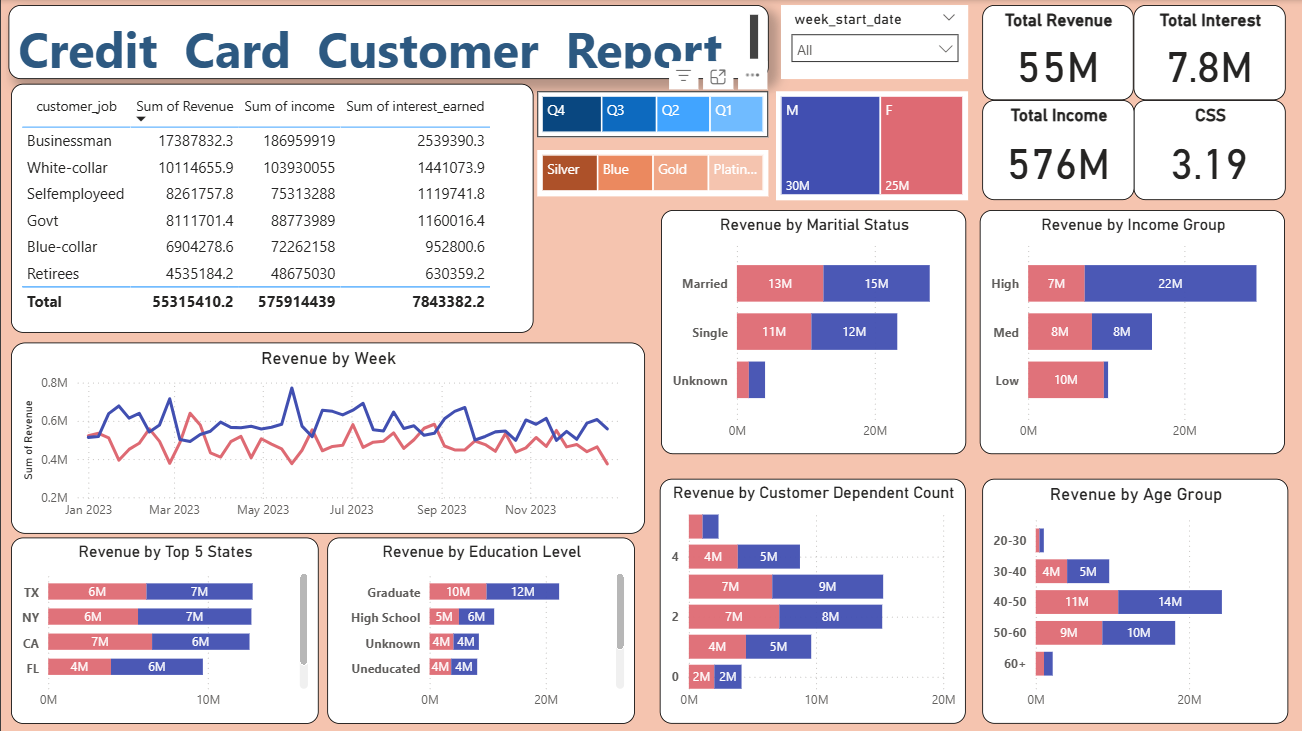

The page's visual inventory and layout, read from the dashboard file:
{"tool":"powerbi","page":{"name":"Customer Report","canvas":[1280,720],"ordinal":2},"visuals":[{"type":"textbox","box":[7.4,4.9,747,72.5],"z":0},{"type":"barChart","title":"Revenue by Income Group","fields":{"Y":["Sum(public cc_detail.Revenue)"],"Category":["public cust_detail.IncomeGroup"],"Series":["public cust_detail.gender"]},"box":[962.4,206.5,300.3,240.2],"z":1000},{"type":"tableEx","title":"Card Summary","fields":{"Values":["public cust_detail.customer_job","Sum(public cc_detail.Revenue)","Sum(public cust_detail.income)","Sum(public cc_detail.interest_earned)"]},"box":[9.8,82.3,513.6,244.5],"z":2000},{"type":"card","title":"Total Interest","fields":{"Values":["Sum(public cc_detail.interest_earned)"]},"box":[1113.2,4.9,149.9,93.4],"z":3000},{"type":"card","title":"CSS","fields":{"Values":["Avg(public cust_detail.cust_satisfaction_score)"]},"box":[1113.2,98.3,149.9,98.3],"z":4000},{"type":"slicer","fields":{"Values":["public cc_detail.week_start_date"]},"box":[766.7,4.9,184.3,72.5],"z":5000},{"type":"treemap","fields":{"Group":["public cc_detail.qtr"],"Values":["Avg(public cc_detail.client_num)"]},"box":[527.1,89.7,227.3,45.5],"z":6000},{"type":"treemap","fields":{"Values":["Avg(public cc_detail.client_num)"],"Group":["public cc_detail.card_category"]},"box":[527.1,147.4,227.3,45.5],"z":7000},{"type":"card","title":"Total Revenue","fields":{"Values":["Sum(public cc_detail.Revenue)"]},"box":[964.5,4.9,148.7,93.4],"z":10000},{"type":"card","title":"Total Income","fields":{"Values":["Sum(public cust_detail.income)"]},"box":[963.9,98.1,149.4,98.1],"z":11000},{"type":"lineChart","title":"Revenue by Week","fields":{"Y":["Sum(public cc_detail.Revenue)"],"Series":["public cust_detail.gender"],"Category":["public cc_detail.week_start_date.Variation.Date Hierarchy.Year","public cc_detail.week_start_date.Variation.Date Hierarchy.Month","public cc_detail.week_start_date.Variation.Date Hierarchy.Day"]},"box":[9.8,336.6,622.9,188],"z":12000},{"type":"treemap","fields":{"Group":["public cust_detail.gender"],"Values":["Sum(public cc_detail.Revenue)"]},"box":[761.7,89.4,189,106.9],"z":13000},{"type":"barChart","title":"Revenue by Age Group","fields":{"Y":["Sum(public cc_detail.Revenue)"],"Category":["public cust_detail.AgeGroup"],"Series":["public cust_detail.gender"]},"box":[964.5,470.6,301,240.8],"z":14000},{"type":"barChart","title":"Revenue by Customer Dependent Count","fields":{"Y":["Sum(public cc_detail.Revenue)"],"Category":["public cust_detail.dependent_count"],"Series":["public cust_detail.gender"]},"box":[647.5,470.6,301,240.8],"z":15000},{"type":"barChart","title":"Revenue by Education Level","fields":{"Y":["Sum(public cc_detail.Revenue)"],"Category":["public cust_detail.education_level"],"Series":["public cust_detail.gender"]},"box":[320.7,528.3,302.2,183.1],"z":16000},{"type":"barChart","title":"Revenue by Top 5 States","fields":{"Y":["Sum(public cc_detail.Revenue)"],"Category":["public cust_detail.state_cd"],"Series":["public cust_detail.gender"]},"box":[9.8,528.3,302.2,183.1],"z":17000},{"type":"barChart","title":"Revenue by Maritial Status","fields":{"Y":["Sum(public cc_detail.Revenue)"],"Category":["public cust_detail.marital_status"],"Series":["public cust_detail.gender"]},"box":[648.9,206.5,300.3,240.2],"z":18000}]}

Visuals, with their boxes in screenshot pixels (x1, y1, x2, y2), scaled from the page's 1280x720 canvas onto the 1302x731 screenshot:
textbox: <region>8, 5, 767, 79</region>
"Revenue by Income Group" barChart: <region>979, 210, 1284, 454</region>
"Card Summary" tableEx: <region>10, 84, 532, 332</region>
"Total Interest" card: <region>1132, 5, 1285, 100</region>
"CSS" card: <region>1132, 100, 1285, 200</region>
slicer - public cc_detail.week_start_date: <region>780, 5, 967, 79</region>
treemap - public cc_detail.qtr x Avg(public cc_detail.client_num): <region>536, 91, 767, 137</region>
treemap - Avg(public cc_detail.client_num) x public cc_detail.card_category: <region>536, 150, 767, 196</region>
"Total Revenue" card: <region>981, 5, 1132, 100</region>
"Total Income" card: <region>980, 100, 1132, 199</region>
"Revenue by Week" lineChart: <region>10, 342, 644, 533</region>
treemap - public cust_detail.gender x Sum(public cc_detail.Revenue): <region>775, 91, 967, 199</region>
"Revenue by Age Group" barChart: <region>981, 478, 1287, 722</region>
"Revenue by Customer Dependent Count" barChart: <region>659, 478, 965, 722</region>
"Revenue by Education Level" barChart: <region>326, 536, 634, 722</region>
"Revenue by Top 5 States" barChart: <region>10, 536, 317, 722</region>
"Revenue by Maritial Status" barChart: <region>660, 210, 966, 454</region>
